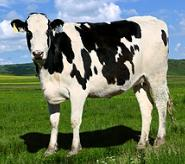cow: (10, 12, 169, 156)
